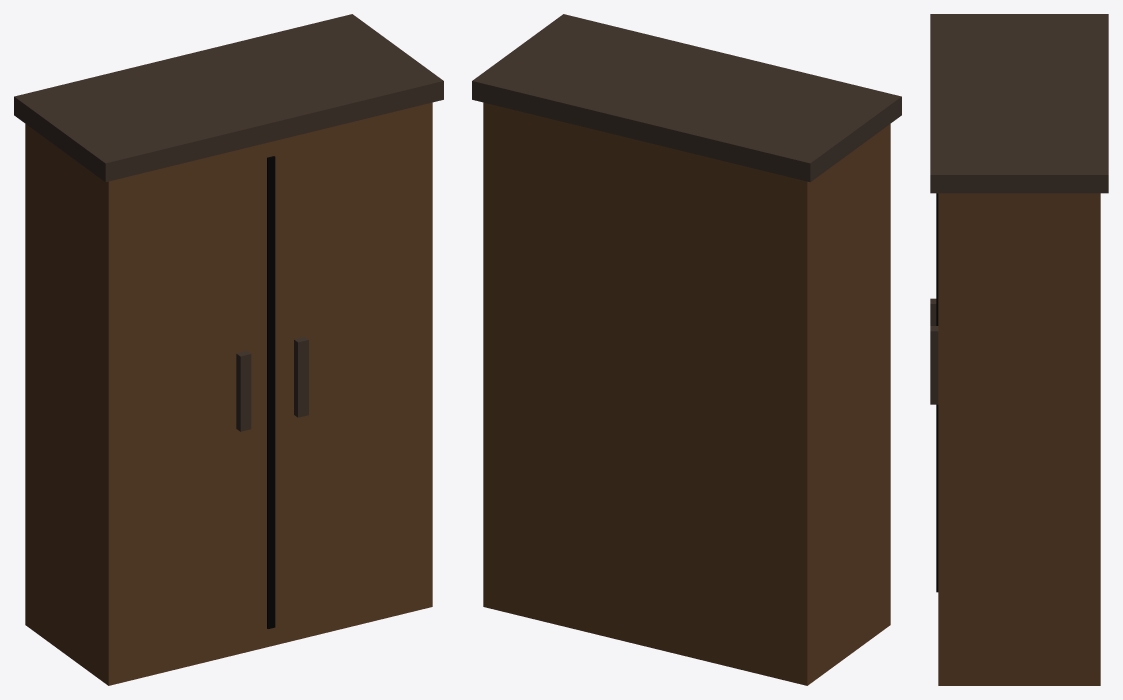
The model's file is living_wardrobe.glb.
3 renders of one model, left to right at view 1: azimuth 30°, elevation 25°; view 2: azimuth 150°, elevation 25°; view 3: azimuth 270°, elevation 25°, orthographic. The views are drawn at different scales.
Visible parts, largest first — view 1: sw5e_int_living_wardrobe; view 2: sw5e_int_living_wardrobe; view 3: sw5e_int_living_wardrobe.
Boxes of the visible parts, box(x1,y1,x2,y2) form: sw5e_int_living_wardrobe: box(14, 14, 443, 685); sw5e_int_living_wardrobe: box(472, 14, 901, 685); sw5e_int_living_wardrobe: box(930, 14, 1108, 685).
Bounding box in the file's own units: 0.94 × 1.4 × 0.44.
